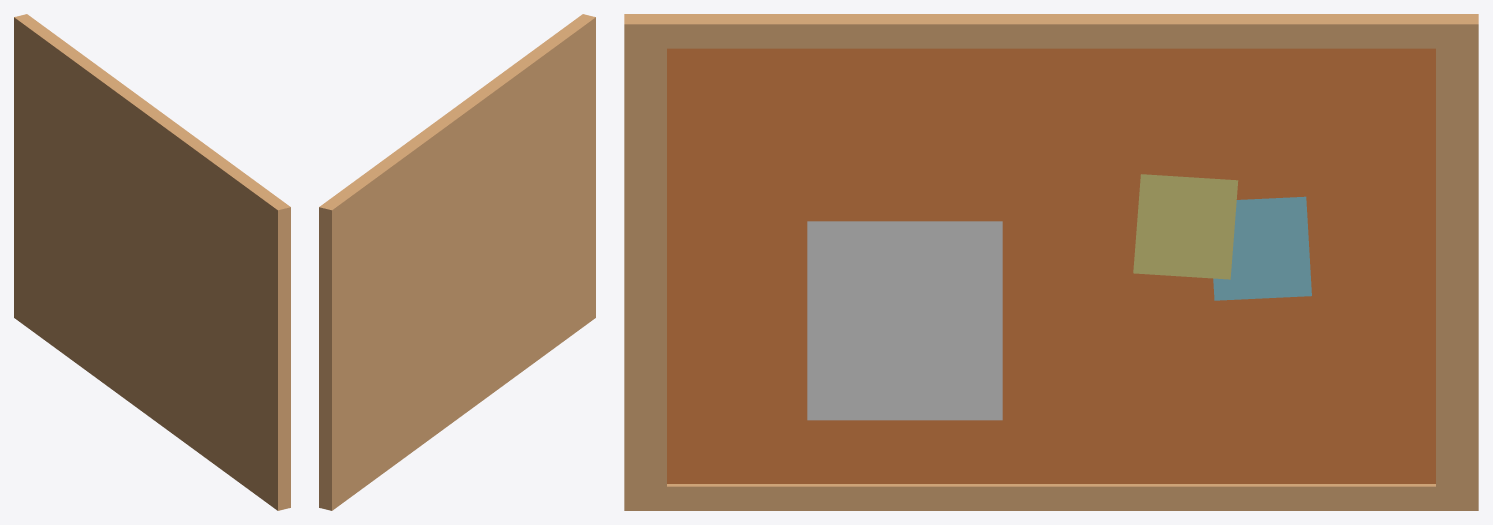
File: corkboard.glb
The picture shows the model from 3 angles, left to right: view 1: azimuth 30°, elevation 25°; view 2: azimuth 150°, elevation 25°; view 3: azimuth 270°, elevation 25°; orthographic projection. The views are drawn at different scales.
Parts seen in each view (by area): view 1: Frame; view 2: Frame; view 3: Cork, Frame, Memo1, Memo1.001, Memo1.002.
Part boxes in pixels (bbox=[...]): Frame: bbox=[14, 14, 290, 510]; Frame: bbox=[319, 14, 595, 510]; Cork: bbox=[667, 48, 1435, 483]; Frame: bbox=[624, 14, 1478, 510]; Memo1: bbox=[807, 221, 1002, 420]; Memo1.001: bbox=[1133, 174, 1238, 279]; Memo1.002: bbox=[1213, 196, 1311, 300].
Bounding box in the file's own units: 0.01 × 0.22 × 0.35.
